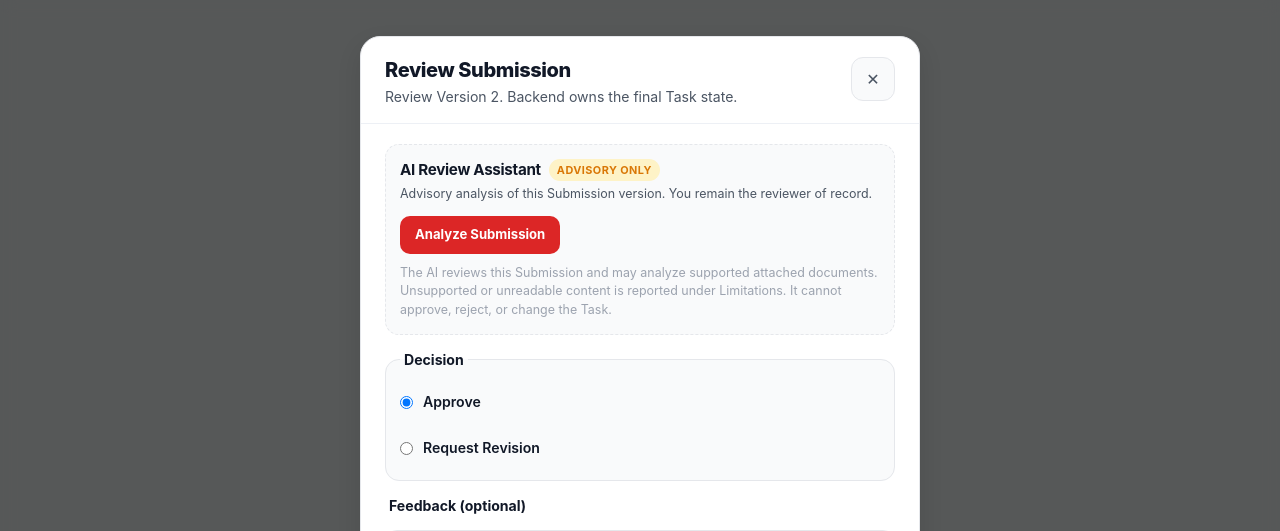
Scenario: ReviewDialog AI review assistant › surfaces the authority-loss copy instead of a provider failure
The image size is (1280, 531).
Click the button "Analyze Submission" at (480, 235), box [400, 216, 560, 254]
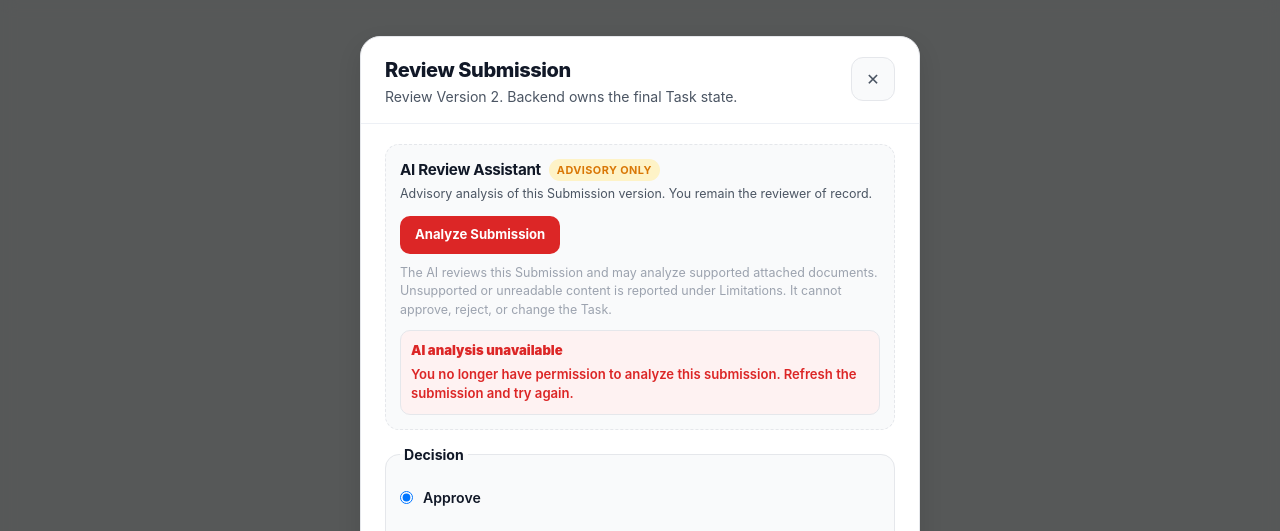
Expected: the message shows "You no longer have permission to analyze this submission. Refresh the submission and try again.", [411, 366, 857, 401]
